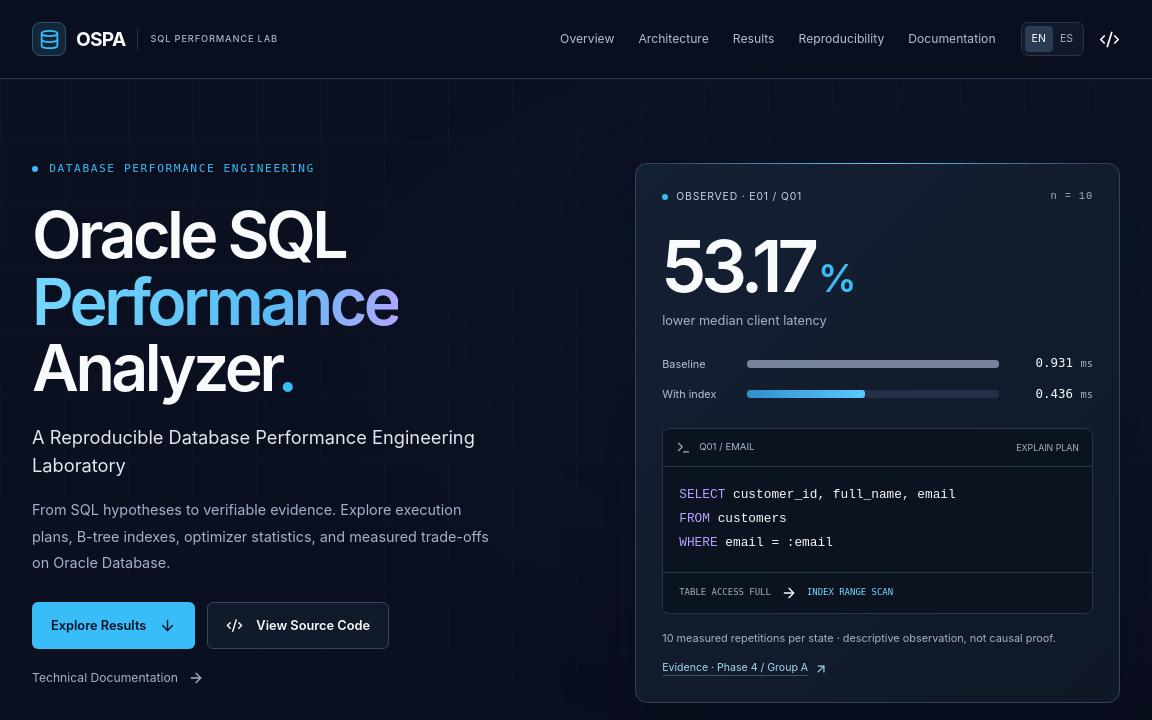
Scenario: Portfolio interactions › shows a bilingual, source-backed recruiter readout with favorable and unfavorable cases
Click the button "ES": (1066, 39) [1053,26,1080,52]
(page scrolled)
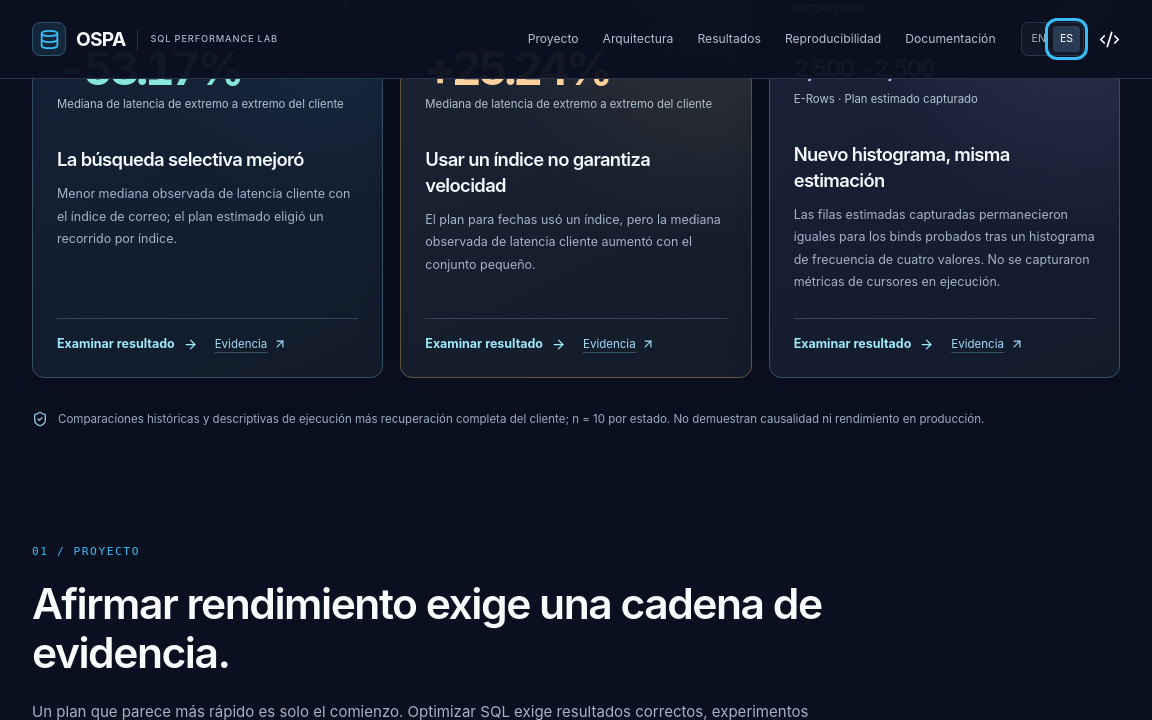
Check: the text "Comparaciones históricas y descriptivas de ejecución más recuperación completa del cliente; n = 10 por estado. No demues" is shown, box [58,412,984,426]
